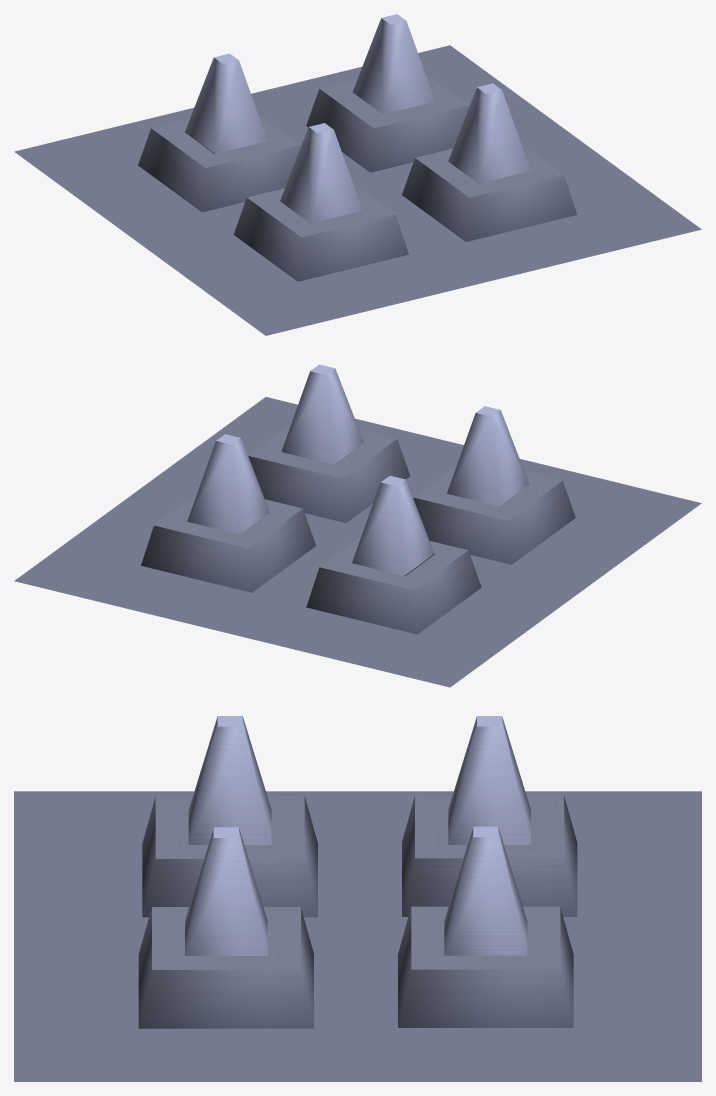
File: floor_trap.glb
The picture shows the model from 3 angles, top to bottom: view 1: azimuth 30°, elevation 25°; view 2: azimuth 150°, elevation 25°; view 3: azimuth 270°, elevation 25°; orthographic projection. The views are drawn at different scales.
Visible parts, largest first — view 1: floor; view 2: floor; view 3: floor.
Boxes of the visible parts, left/top/right/bottom form: floor: left=14, top=14, right=701, bottom=335; floor: left=14, top=364, right=701, bottom=687; floor: left=14, top=716, right=701, bottom=1081.
Size of the model in its own units: 1 by 0.256 by 1.
Materials: 2 (2 with a texture image).
